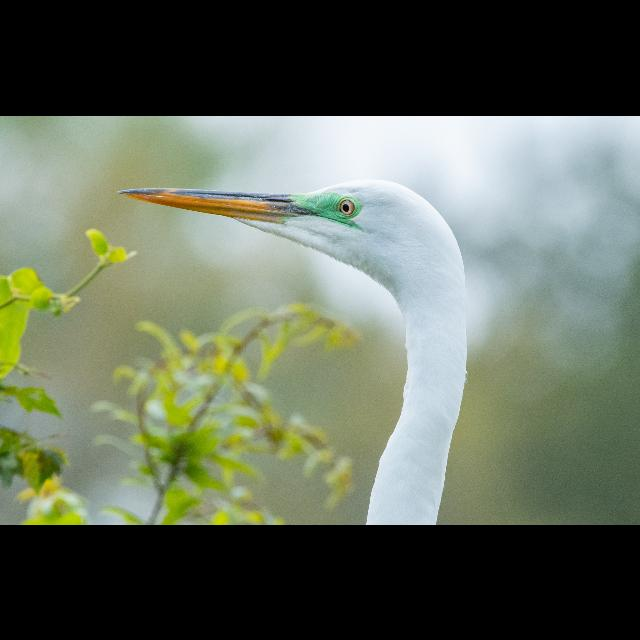egret: (116, 178, 468, 524)
